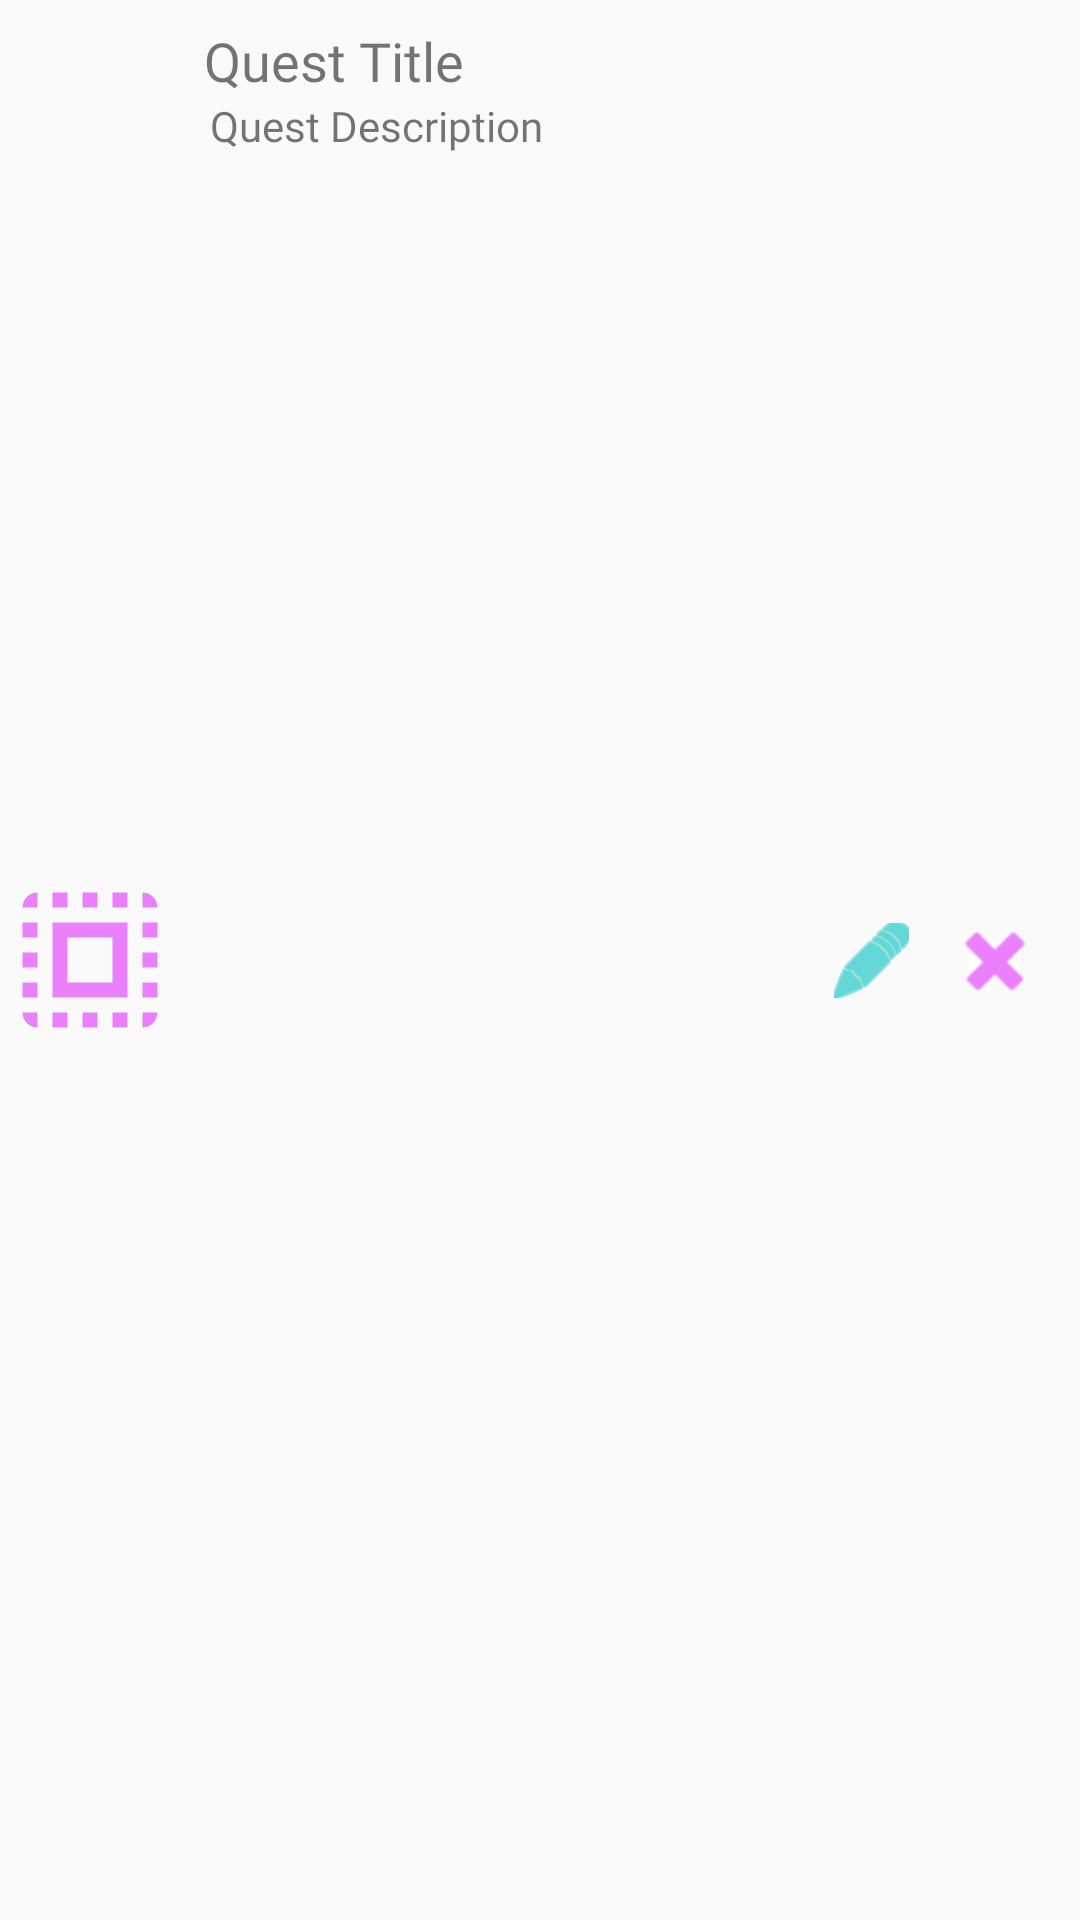

Screen size 1080w x 1920h. Icon name, then its box in pixels as (x1, y1, x2, y2):
delete: (965, 932, 1025, 991)
edit: (834, 923, 909, 998)
